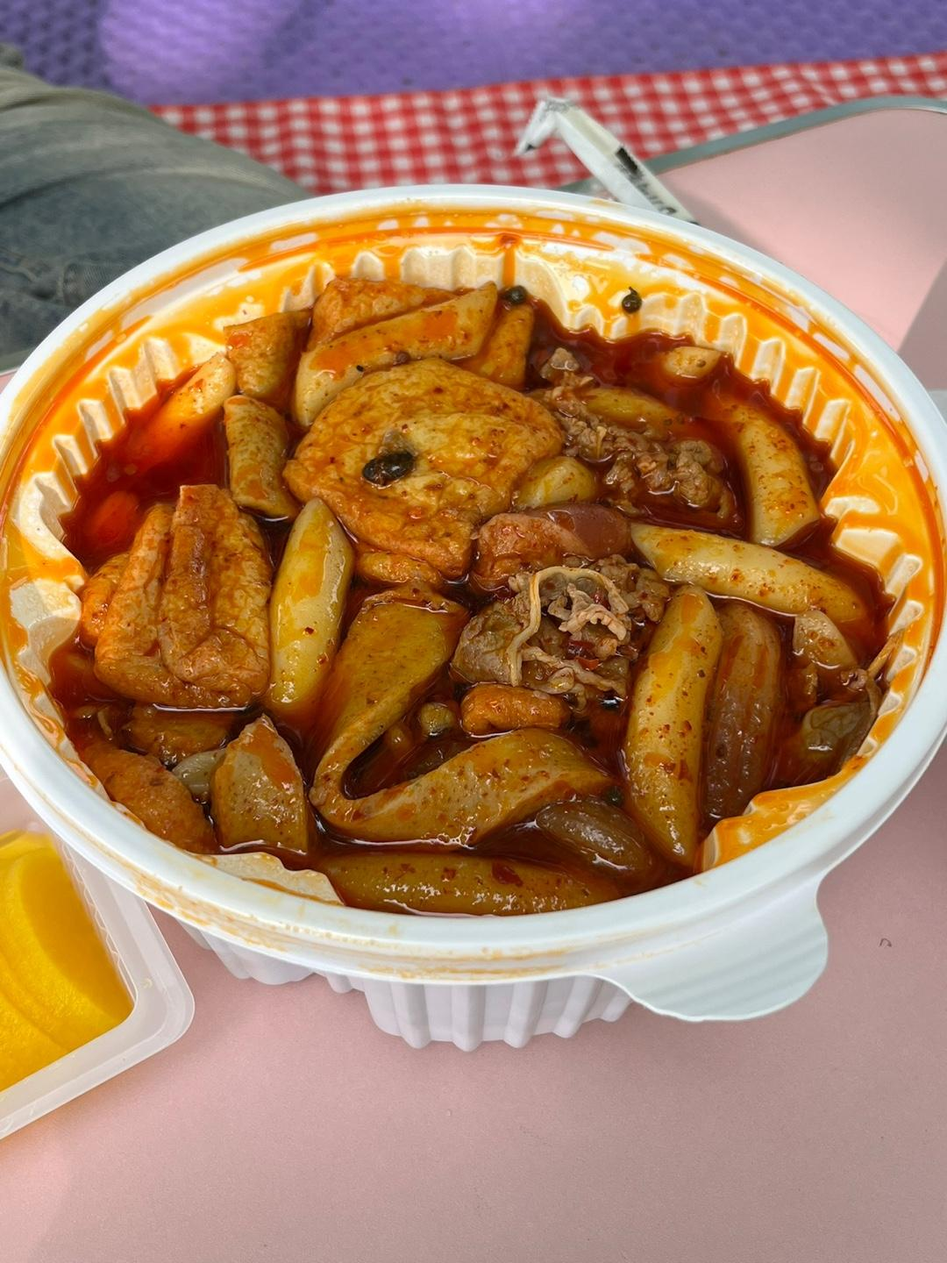Lunch Box: (0, 188, 946, 1046), (0, 772, 193, 1138)
